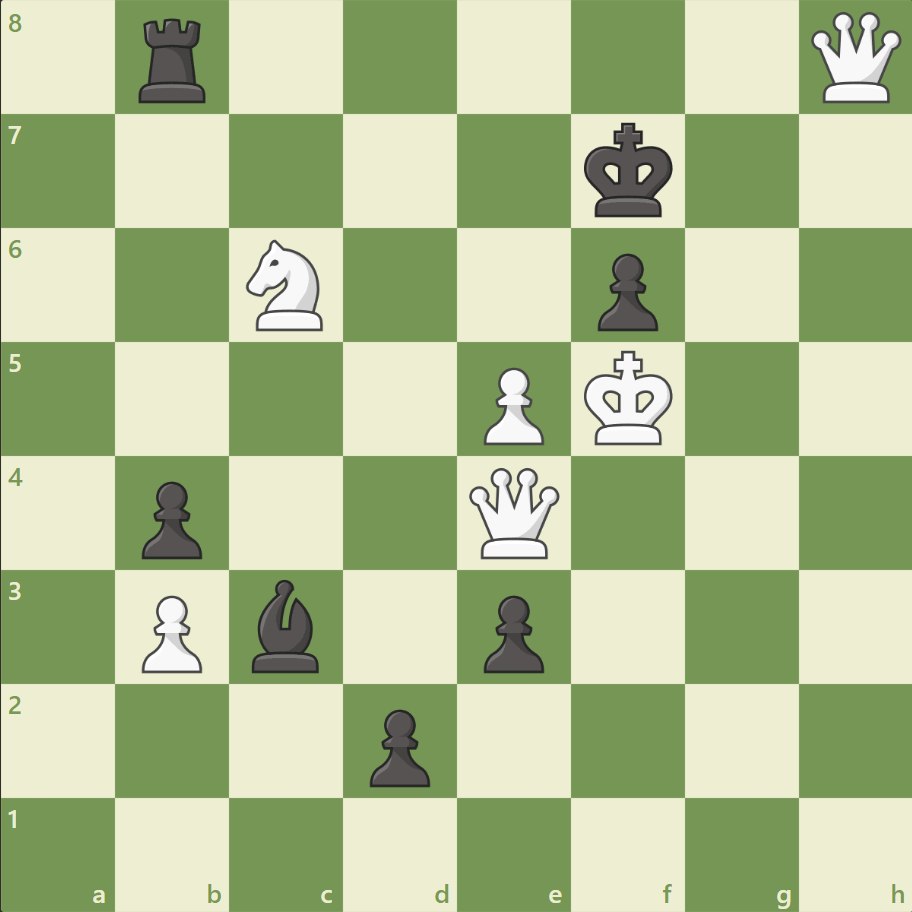K: (579, 344, 679, 452)
N: (238, 234, 335, 337)
P: (474, 359, 549, 450), (133, 586, 208, 677)
Q: (805, 9, 904, 108), (464, 463, 563, 562)
b: (244, 574, 328, 676)
k: (579, 117, 679, 225)
p: (133, 473, 208, 564), (474, 586, 549, 677), (588, 246, 662, 337), (361, 700, 435, 791)
r: (133, 12, 215, 109)
